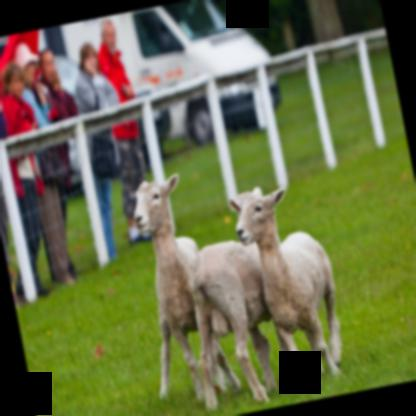handbag: (90, 128, 120, 176), (38, 149, 67, 181)
